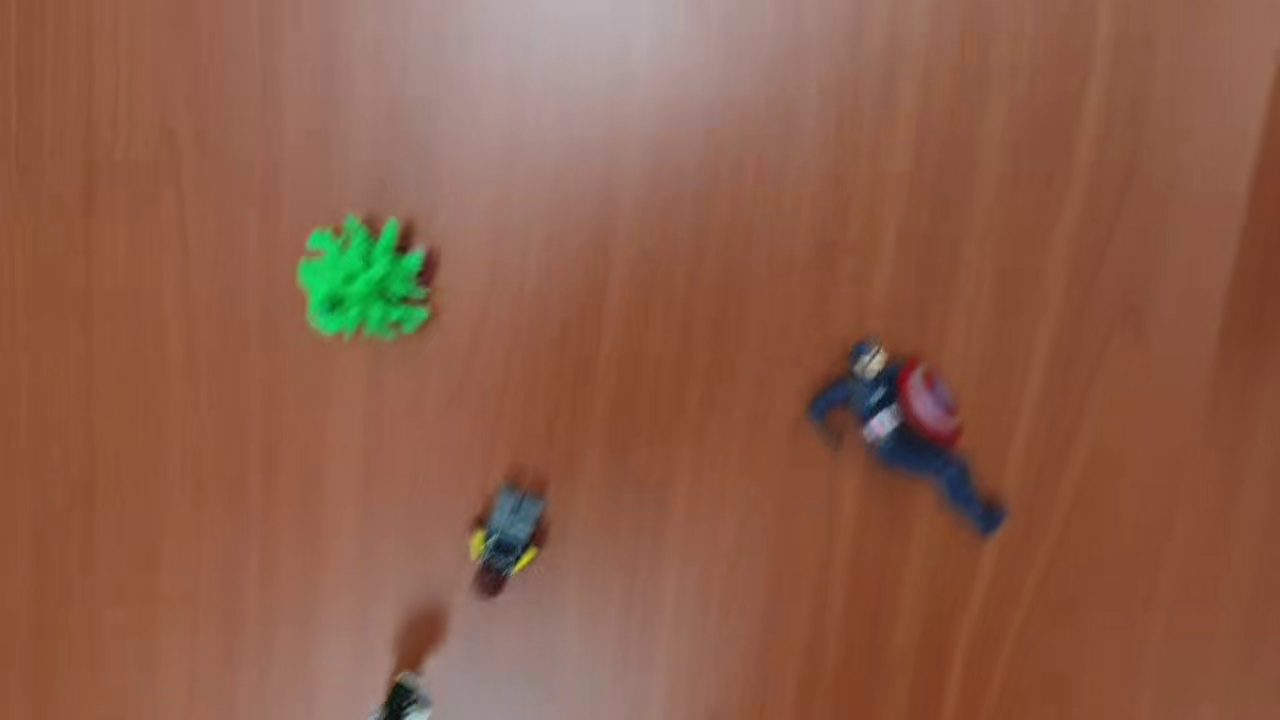people: (811, 336, 1008, 546), (459, 480, 553, 605)
tree: (294, 211, 438, 344)
